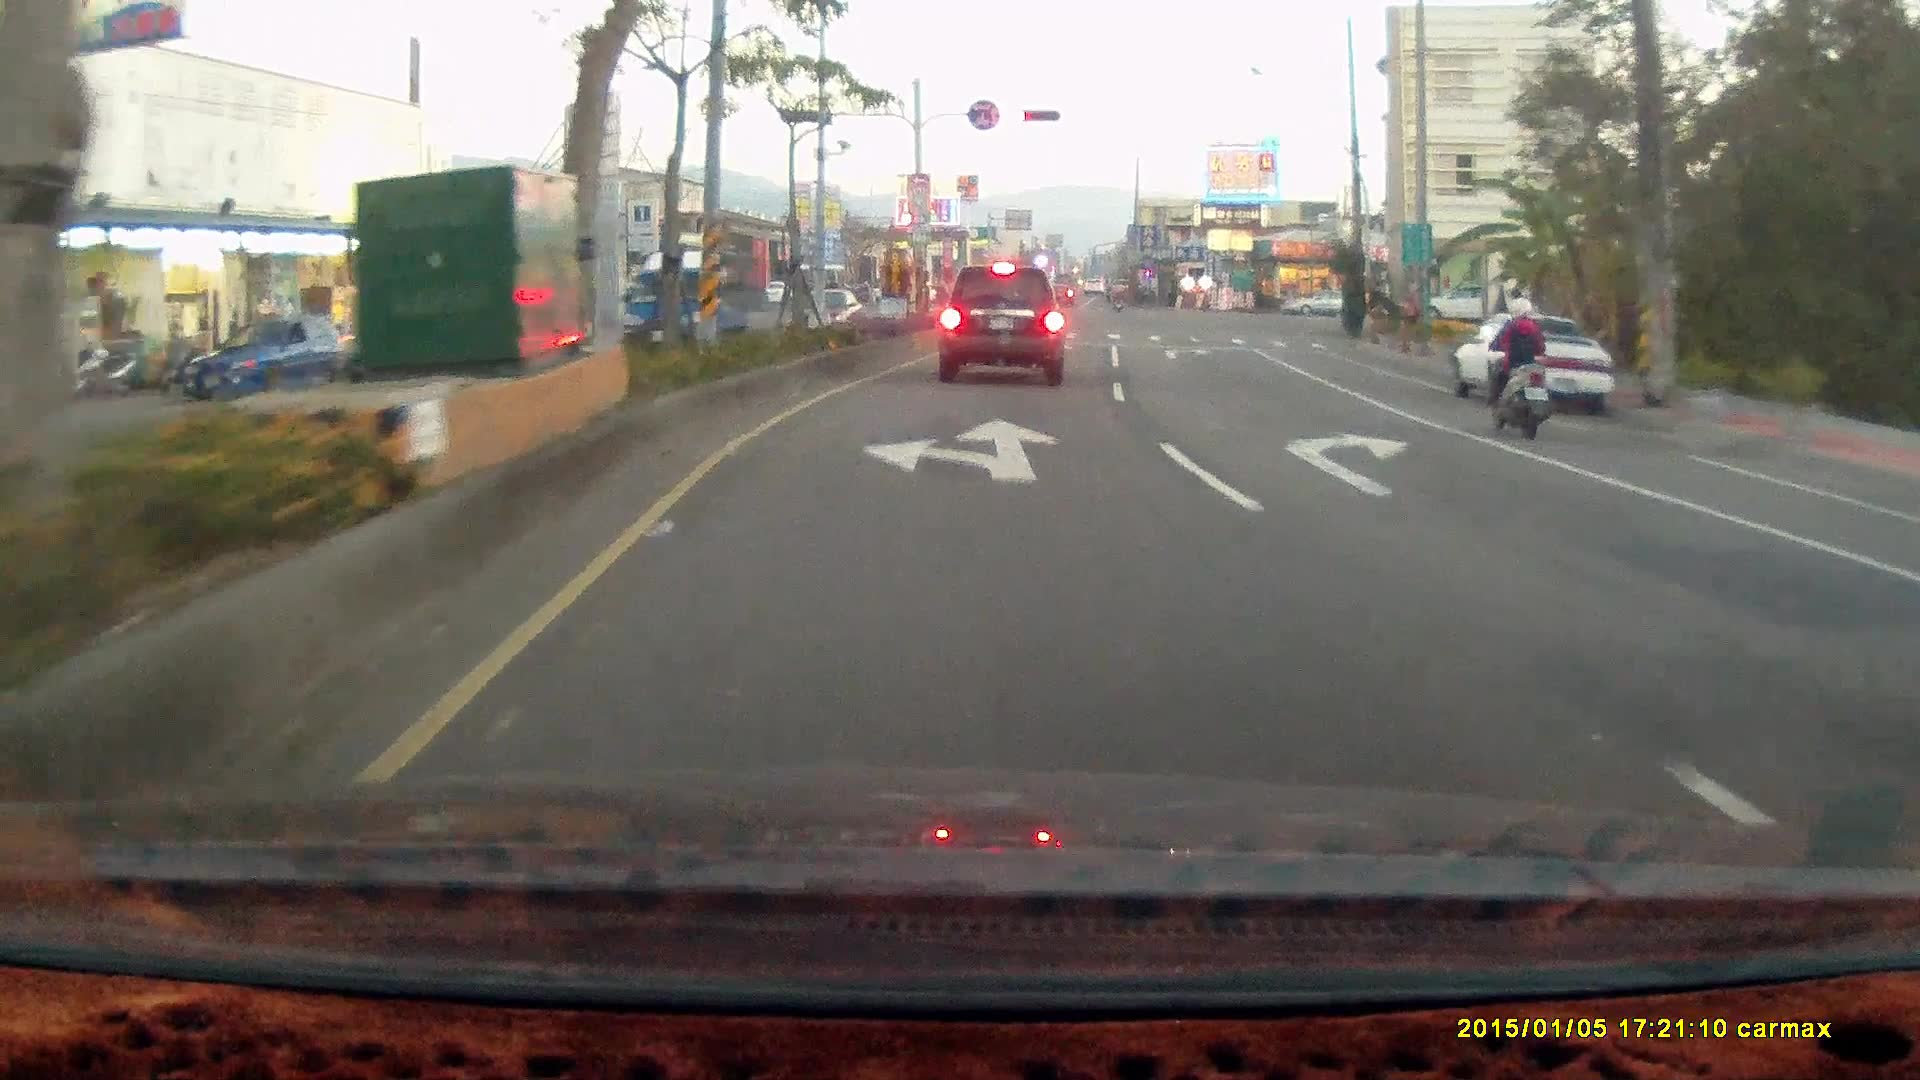rider: (1475, 297, 1554, 441)
vehicle: (1448, 312, 1614, 418), (937, 267, 1064, 386), (1459, 320, 1618, 416), (181, 314, 353, 400), (618, 249, 756, 350), (1896, 493, 1920, 836), (1883, 528, 1920, 690), (1417, 281, 1514, 326), (1282, 289, 1359, 316)
